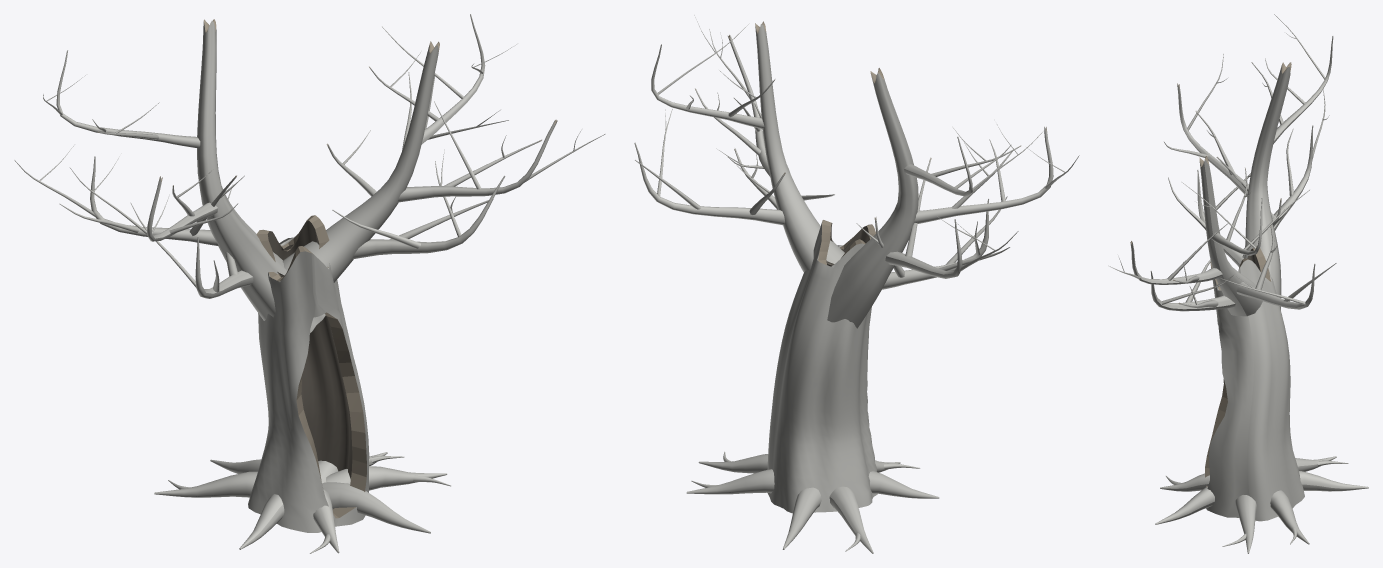
File: corealm_deadwood_hollow.glb
3 views of the same model, side by side, from view 1: azimuth 30°, elevation 25°; view 2: azimuth 150°, elevation 25°; view 3: azimuth 270°, elevation 25° (orthographic). The views are drawn at different scales.
Parts seen in each view (by area): view 1: corealm_deadwood_hollow; view 2: corealm_deadwood_hollow; view 3: corealm_deadwood_hollow.
Boxes of the visible parts, x1,y1,x2,y2 form: corealm_deadwood_hollow: [14, 14, 605, 553]; corealm_deadwood_hollow: [634, 15, 1079, 553]; corealm_deadwood_hollow: [1108, 14, 1368, 553].
Bounding box in the file's own units: 7.85 × 7.9 × 4.6.
